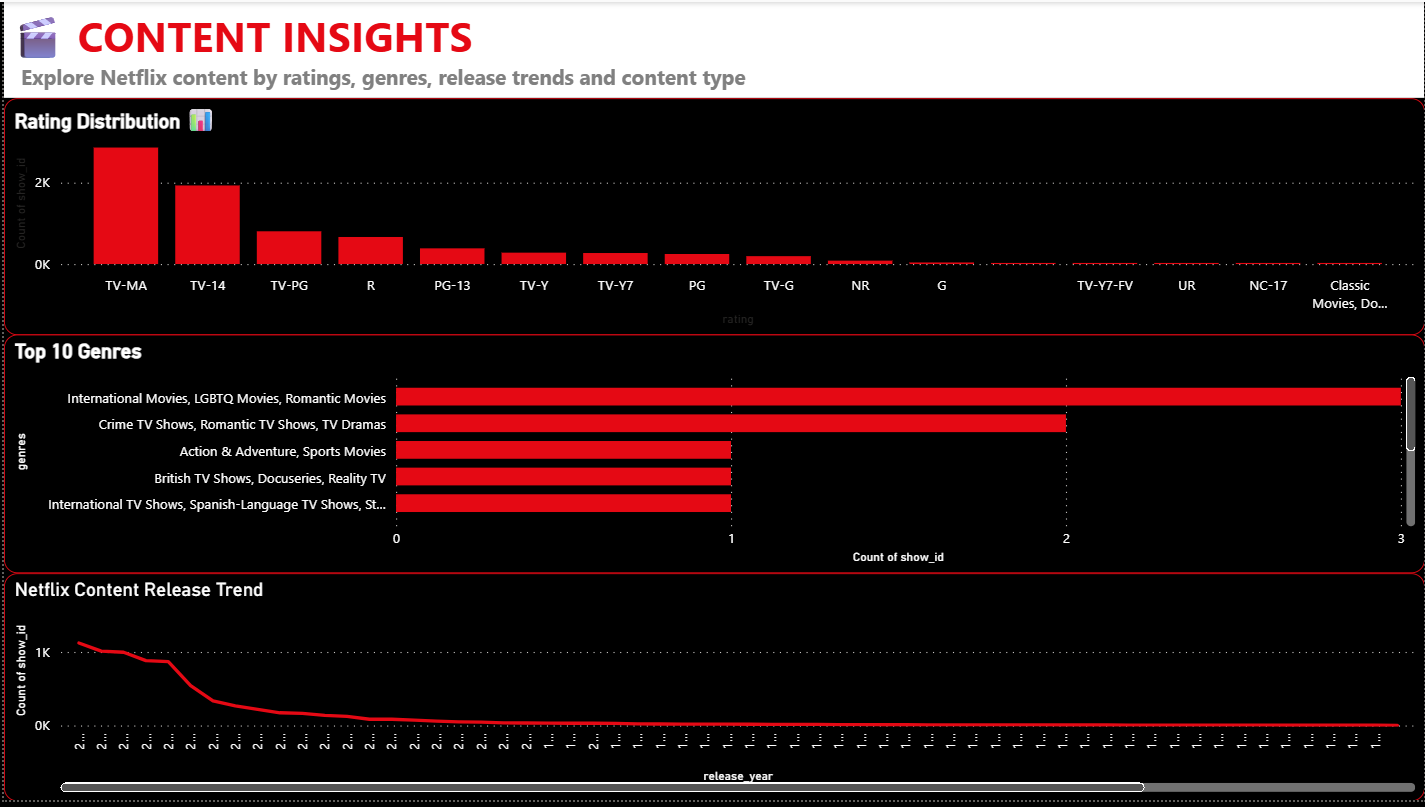

Layout of this report page (visuals, bound fields, positions):
{"tool":"powerbi","page":{"name":"Content Insights","canvas":[1280,720],"ordinal":1},"visuals":[{"type":"textbox","box":[0,0,1280.6,86.3],"z":0},{"type":"clusteredColumnChart","title":"Rating Distribution 📊","fields":{"Category":["NetFlix.rating"],"Y":["CountNonNull(NetFlix.show_id)"]},"box":[0,86.3,1280.6,213.7],"z":1000},{"type":"clusteredBarChart","title":"Top 10 Genres","fields":{"Category":["NetFlix.genres"],"Y":["CountNonNull(NetFlix.show_id)"]},"box":[0,299.9,1280.6,215],"z":2000},{"type":"lineChart","title":"Netflix Content Release Trend","fields":{"Category":["NetFlix.release_year"],"Y":["CountNonNull(NetFlix.show_id)"]},"box":[0,515,1280.6,205.4],"z":3000}]}

Visuals, with their boxes in screenshot pixels (x1, y1, x2, y2), scaled from the page's 1280x720 canvas onto the 1425x807 screenshot:
textbox: box=[0, 0, 1424, 97]
"Rating Distribution 📊" clusteredColumnChart: box=[0, 97, 1424, 336]
"Top 10 Genres" clusteredBarChart: box=[0, 336, 1424, 577]
"Netflix Content Release Trend" lineChart: box=[0, 577, 1424, 806]
